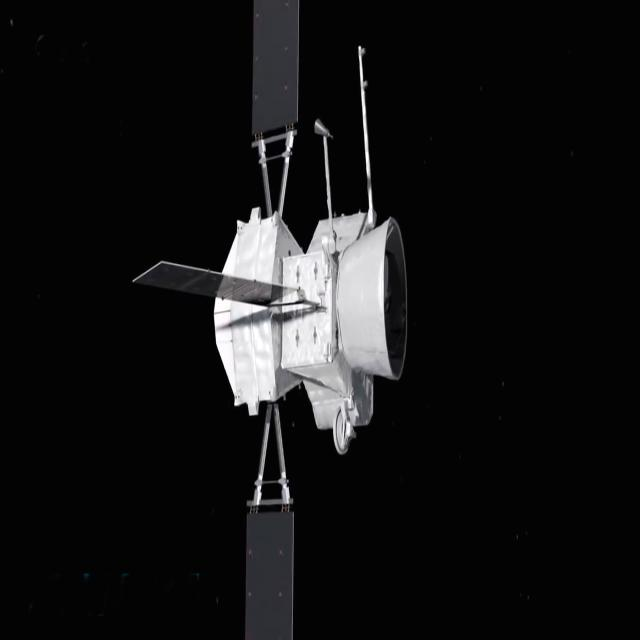satellite: (118, 0, 425, 640)
